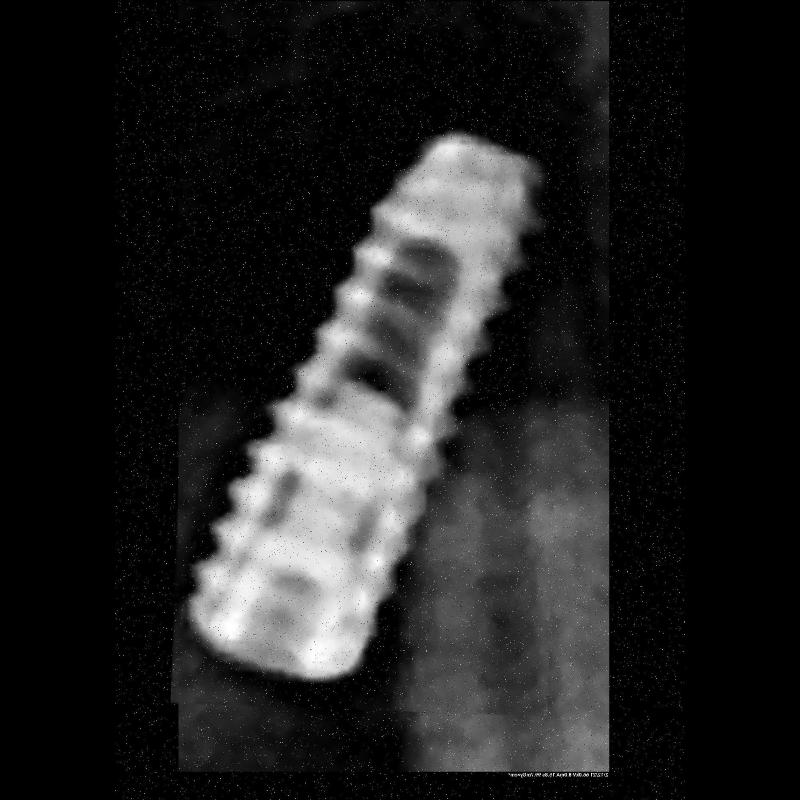osstem: (176, 110, 562, 714)
